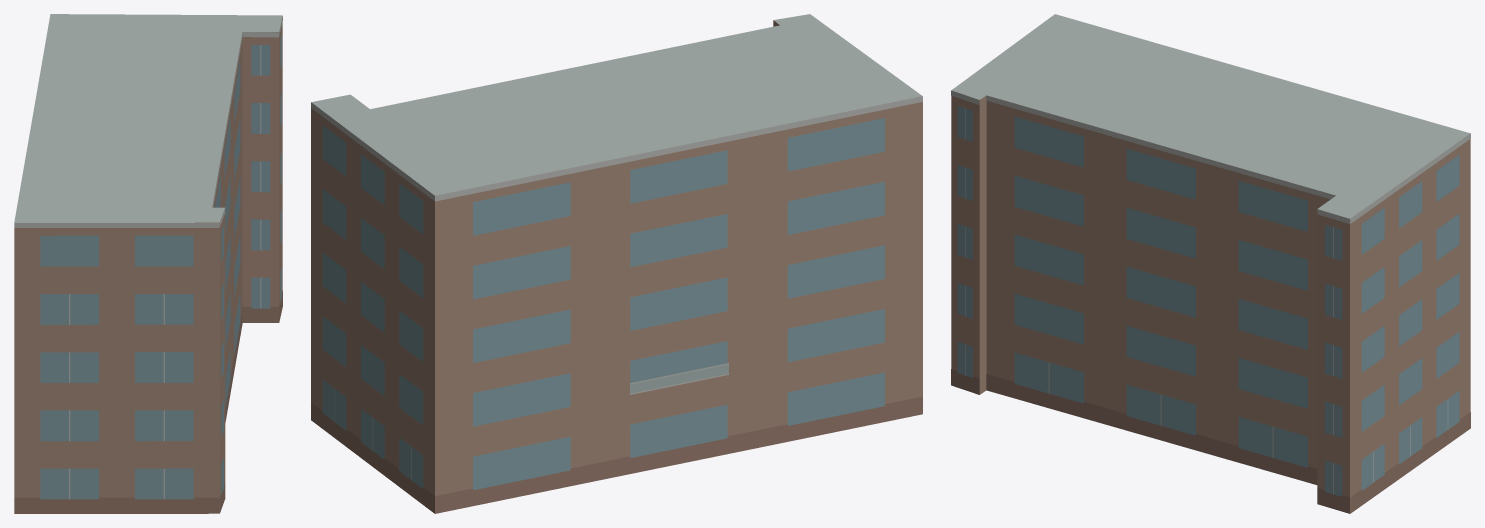
The model's file is survey-upis-32511549.glb.
3 views of the same model, side by side, from view 1: azimuth 30°, elevation 25°; view 2: azimuth 150°, elevation 25°; view 3: azimuth 270°, elevation 25° (orthographic). The views are drawn at different scales.
Visible parts, largest first — view 1: survey-upis-32511549.tmp; view 2: survey-upis-32511549.tmp; view 3: survey-upis-32511549.tmp.
Part boxes in pixels (x1=…): survey-upis-32511549.tmp: x1=14, y1=14, x2=282, y2=513; survey-upis-32511549.tmp: x1=311, y1=14, x2=922, y2=513; survey-upis-32511549.tmp: x1=951, y1=14, x2=1470, y2=513.
Bounding box in the file's own units: 20.42 × 13.7 × 21.88.
